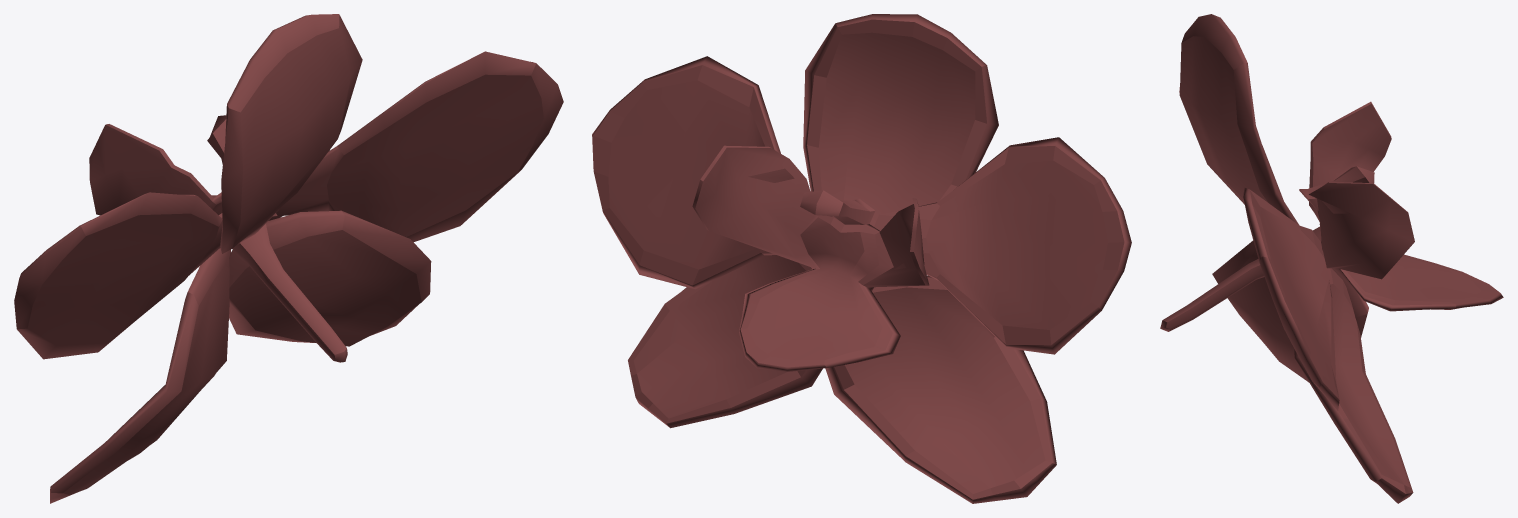
File: orchid.obj
The picture shows the model from 3 angles, left to right: view 1: azimuth 30°, elevation 25°; view 2: azimuth 150°, elevation 25°; view 3: azimuth 270°, elevation 25°; orthographic projection. The views are drawn at different scales.
Parts seen in each view (by area): view 1: polySurface24; view 2: polySurface24; view 3: polySurface24.
Boxes of the visible parts, x1=… form: polySurface24: x1=14, y1=14, x2=563, y2=503; polySurface24: x1=592, y1=14, x2=1131, y2=503; polySurface24: x1=1160, y1=14, x2=1503, y2=503.
Size of the model in its own units: 1.95 by 1.53 by 1.08.
